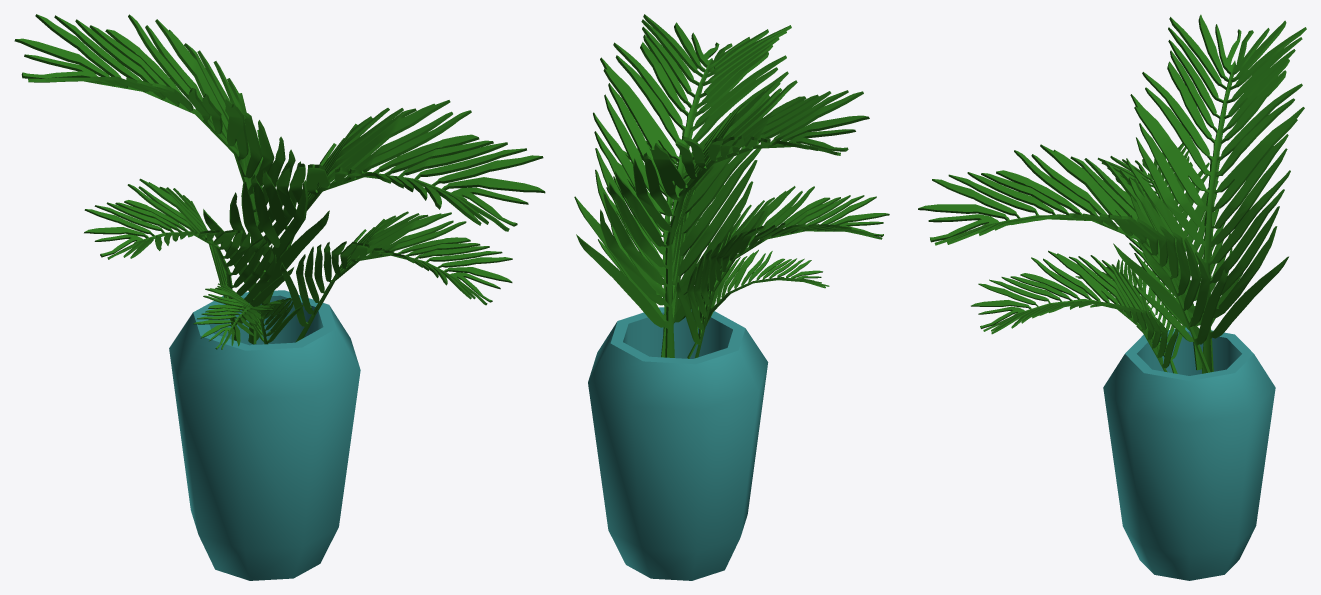
Rendered from HQ_Plant02.fbx.
The picture shows the model from 3 angles, left to right: view 1: azimuth 30°, elevation 25°; view 2: azimuth 150°, elevation 25°; view 3: azimuth 270°, elevation 25°; orthographic projection. The views are drawn at different scales.
Visible parts, largest first — view 1: HQ_Plant02; view 2: HQ_Plant02; view 3: HQ_Plant02.
Boxes of the visible parts, left/top/right/bottom form: HQ_Plant02: left=14, top=14, right=545, bottom=580; HQ_Plant02: left=574, top=14, right=889, bottom=580; HQ_Plant02: left=918, top=14, right=1306, bottom=580.
Size of the model in its own units: 7.56 by 10.49 by 7.96.
